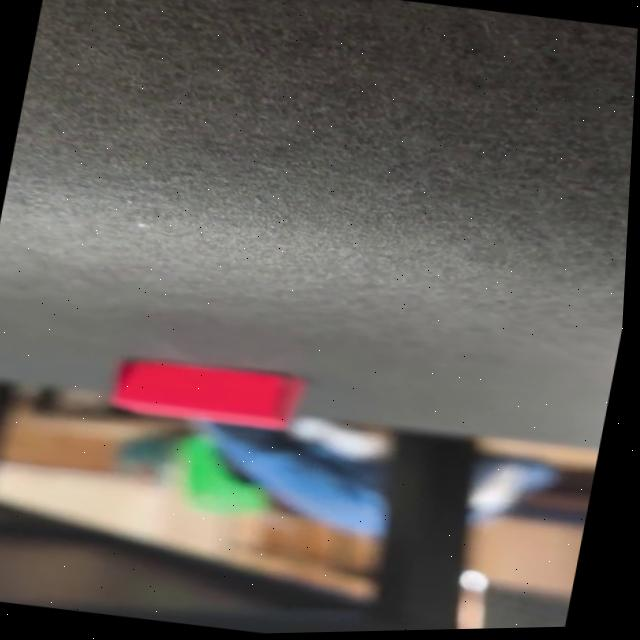red block: (104, 349, 309, 439)
